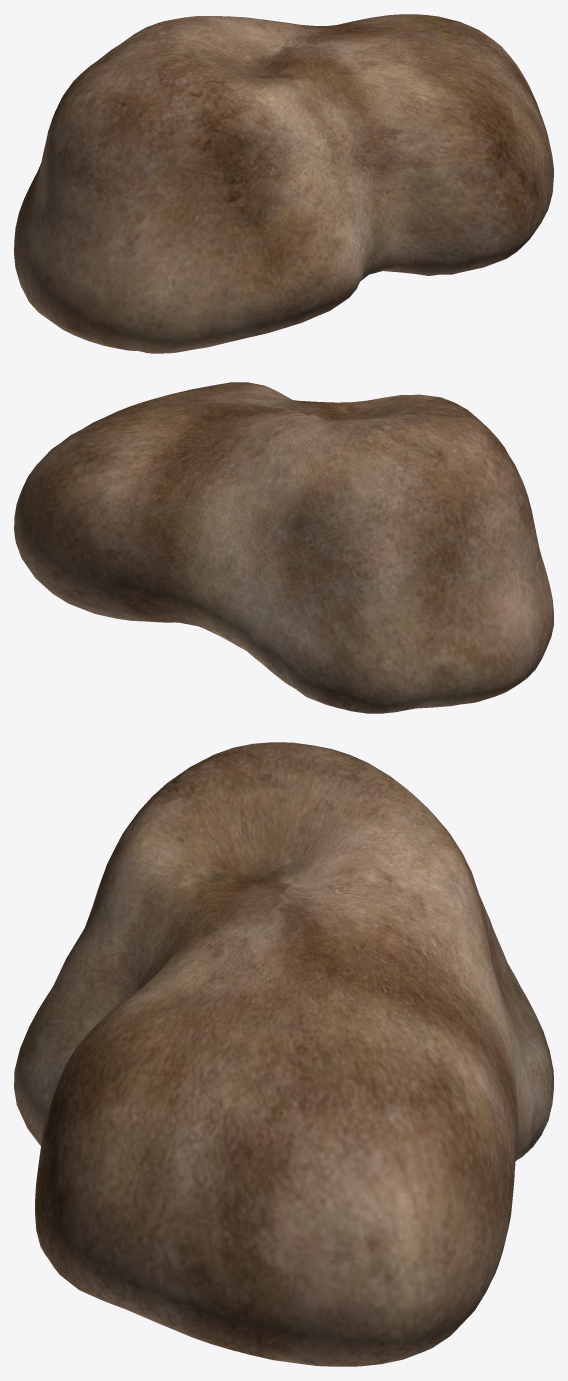
The model's file is castalia.glb.
3 views of the same model, one above another, from view 1: azimuth 30°, elevation 25°; view 2: azimuth 150°, elevation 25°; view 3: azimuth 270°, elevation 25° (orthographic). The views are drawn at different scales.
Visible parts, largest first — view 1: castalia; view 2: castalia; view 3: castalia.
Boxes of the visible parts, box(x1,y1,x2,y2) form: castalia: box(14, 14, 553, 353); castalia: box(14, 382, 553, 713); castalia: box(14, 742, 553, 1366).
Bounding box in the file's own units: 17.78 × 9.22 × 10.91.
Materials: 1 (1 with a texture image).
